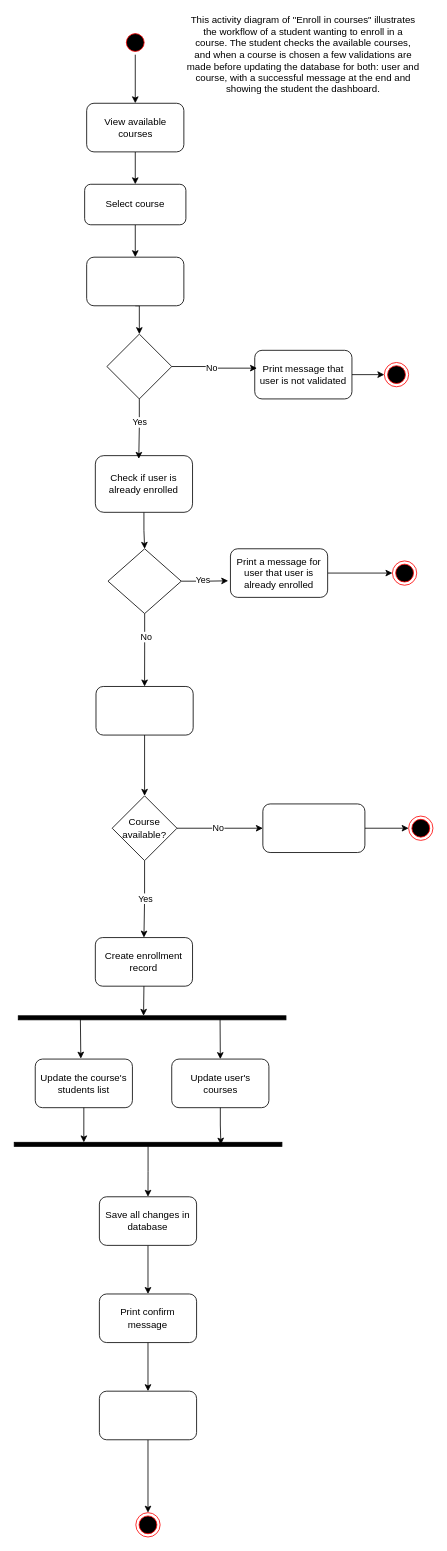
This 447x1551 diagram has some shape labels left out. The shapes that lost their labels are listed below. From the top down, each one's box as (x1, y1, x2, y2) in pixels, then its label:
(86, 256, 184, 306): Validate user
(106, 333, 172, 399): User validated?
(107, 548, 181, 614): User already enrolled?
(95, 686, 193, 735): Check if course is available
(262, 803, 365, 853): Print message for user that course is not available
(99, 1390, 197, 1440): Display dashboard of lessons
